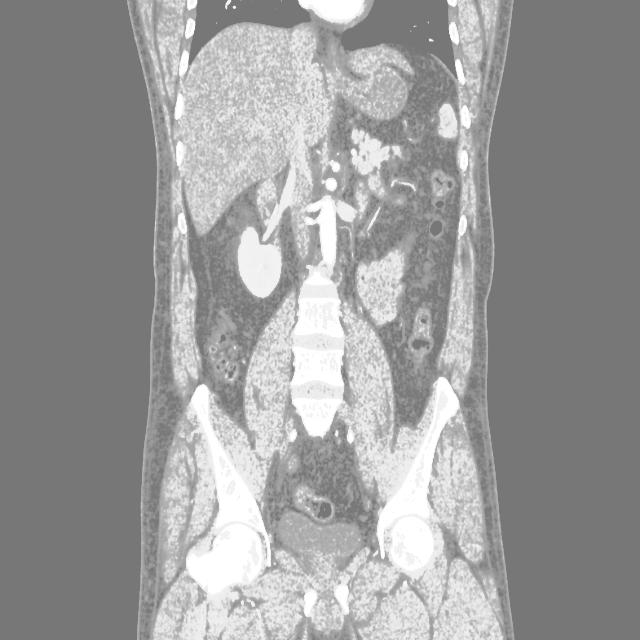NORMAL: (91, 28, 562, 533)
